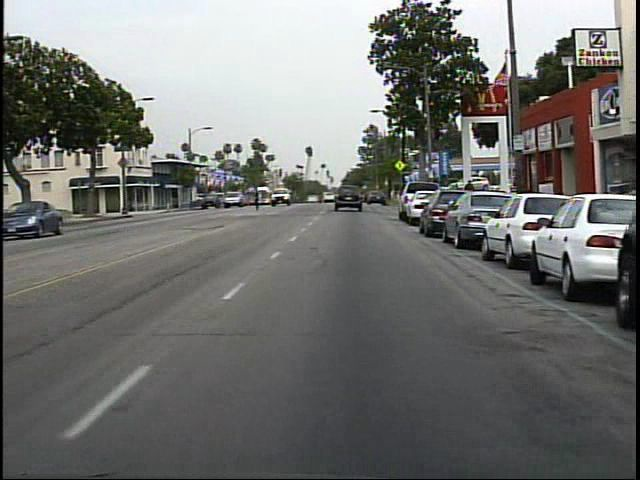person: (459, 176, 479, 217), (251, 182, 268, 213)
